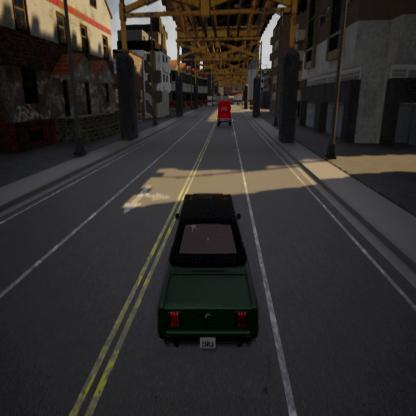Cars: (152, 187, 268, 358), (214, 97, 235, 131)
